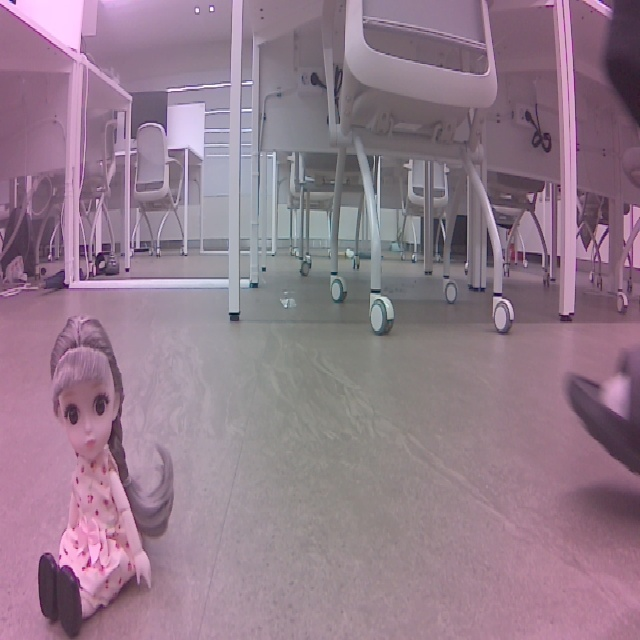장애물: (33, 308, 173, 637)
